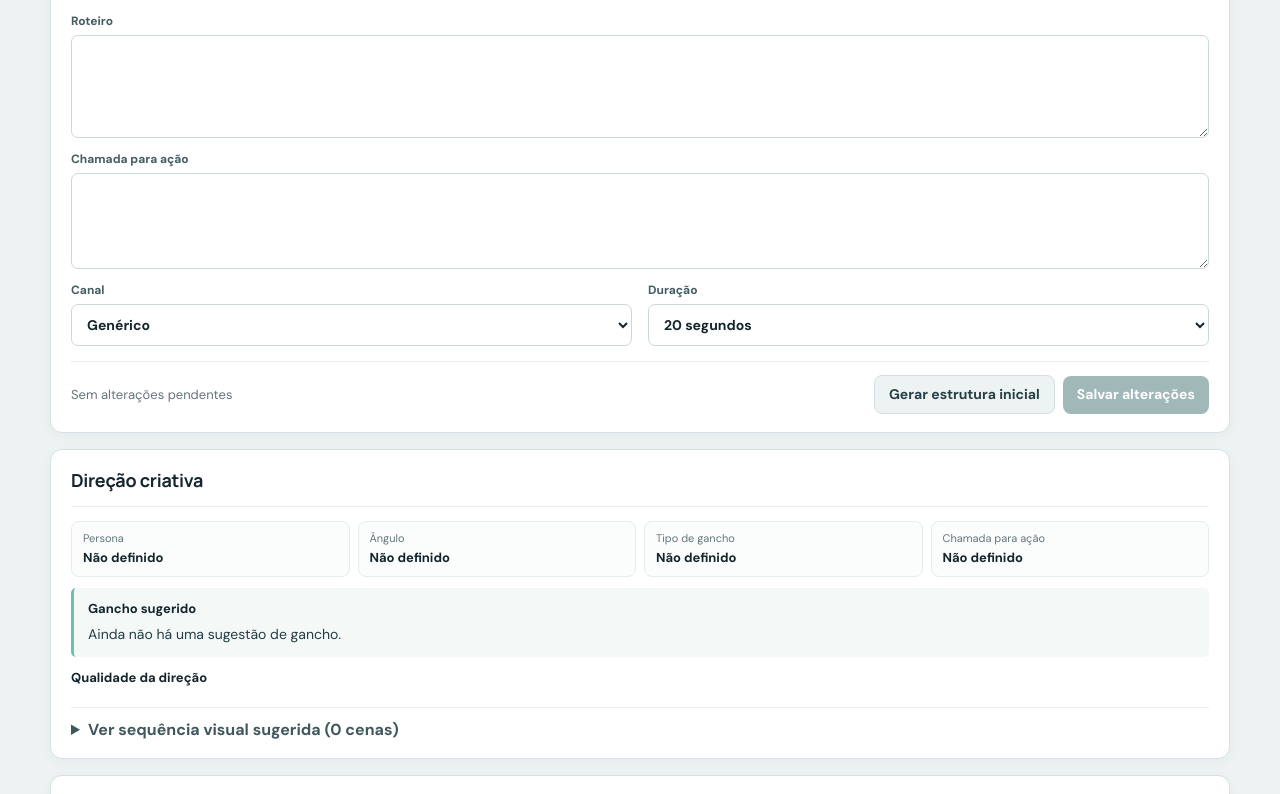
it: overwrite do template criativo › gera diretamente quando não existem cenas
(page scrolled)
Step 1. Click the button "Gerar estrutura inicial" → (964, 395), box [874,376,1055,414]
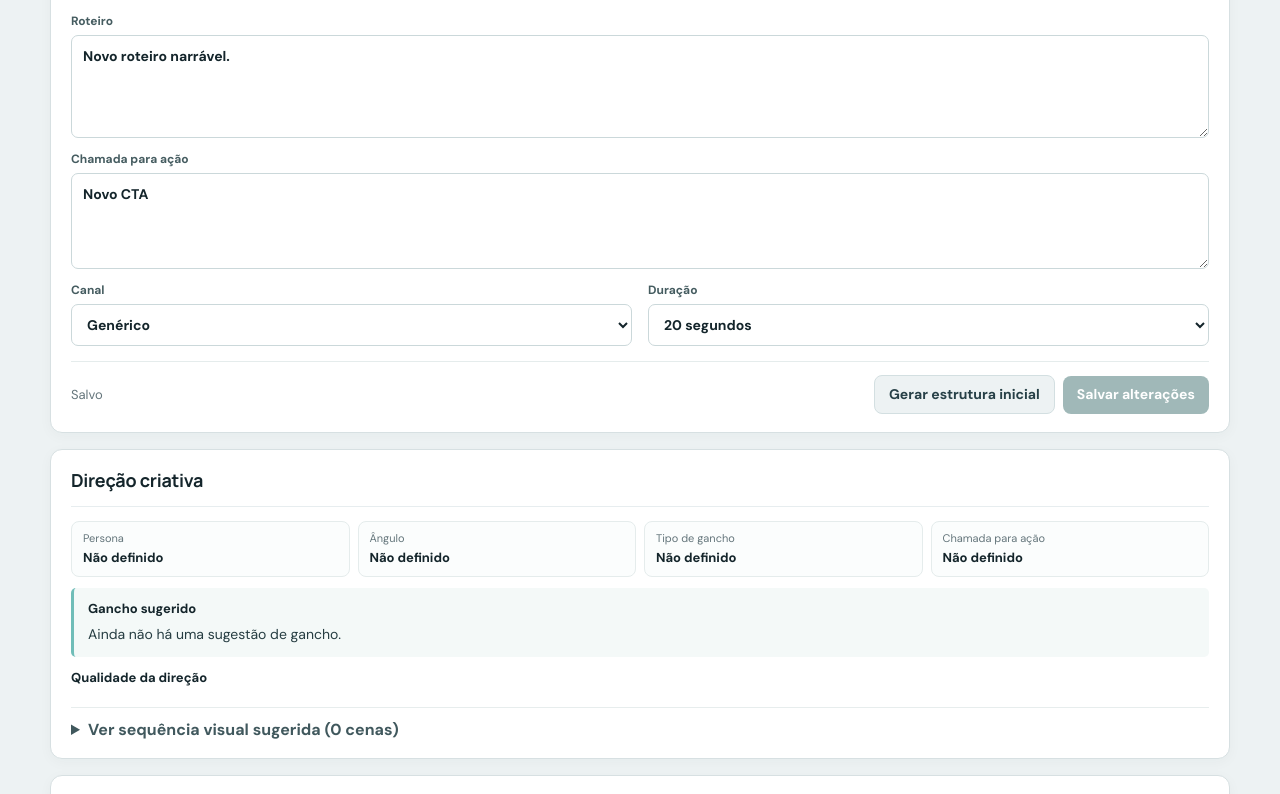
Check: the text box showing "Novo roteiro narrável." is shown, box [71,35,1209,138]
